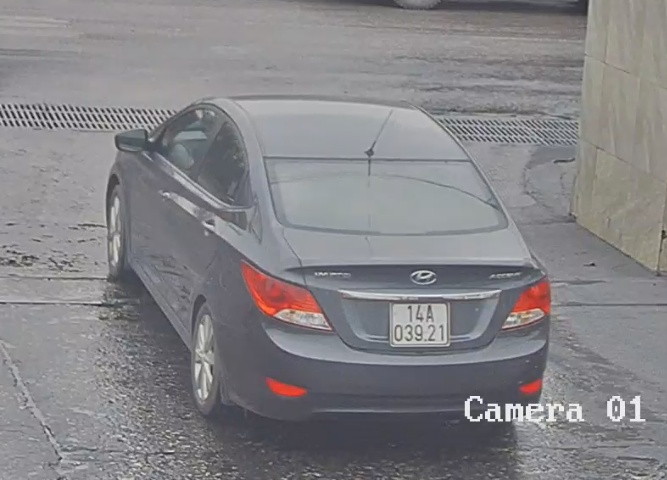vehicle plate: (391, 294, 451, 349)
